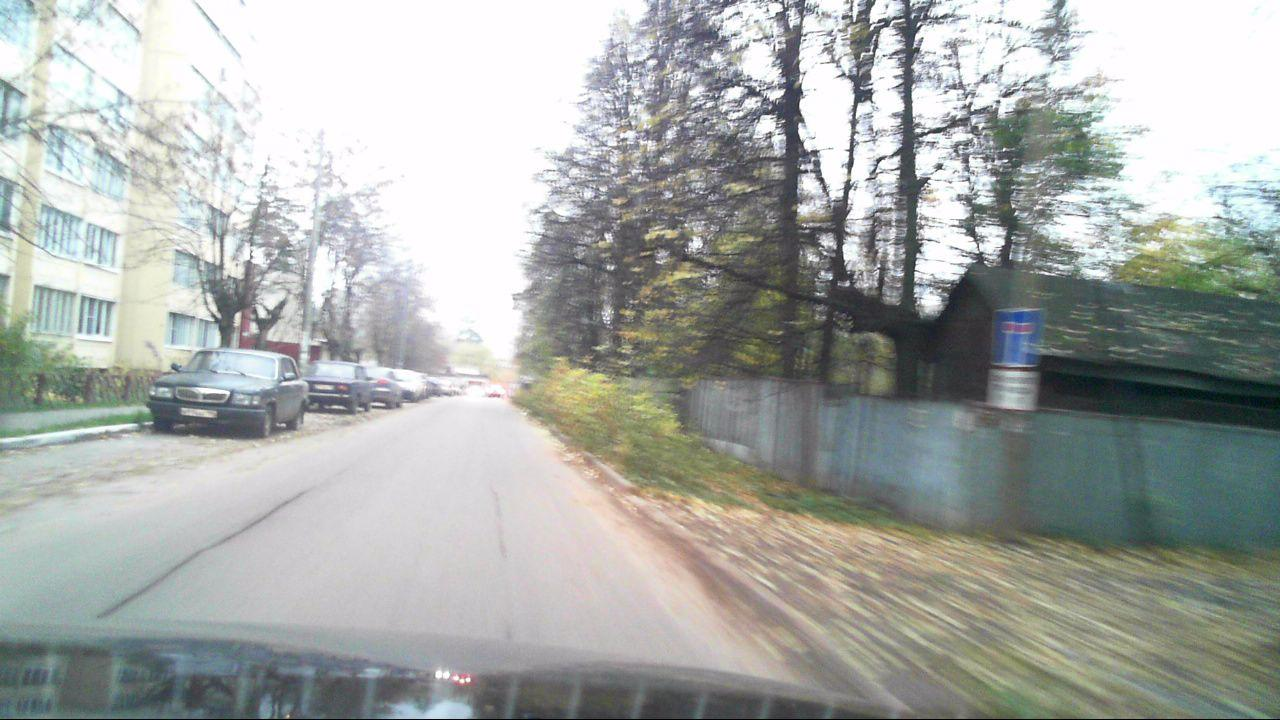6_8_1: (1007, 307, 1042, 367)
